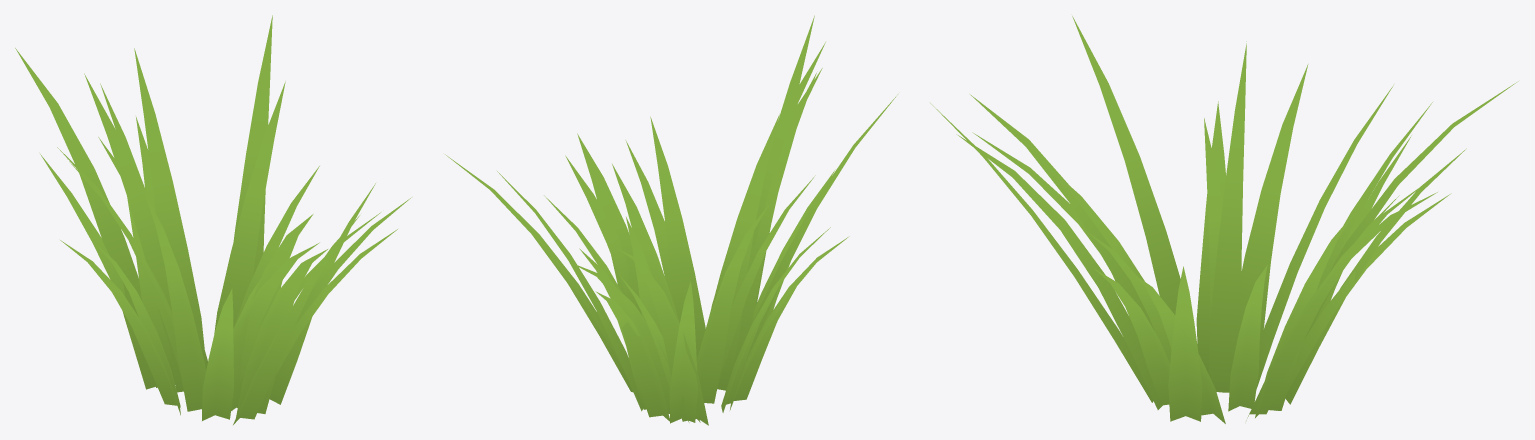
File: grass_tuft1.gltf
3 renders of one model, left to right at view 1: azimuth 30°, elevation 25°; view 2: azimuth 150°, elevation 25°; view 3: azimuth 270°, elevation 25°, orthographic. The views are drawn at different scales.
Parts seen in each view (by area): view 1: grass_tuft1_blade_LOD0; view 2: grass_tuft1_blade_LOD0; view 3: grass_tuft1_blade_LOD0.
Boxes of the visible parts, left/top/right/bottom form: grass_tuft1_blade_LOD0: left=15, top=15, right=411, bottom=424; grass_tuft1_blade_LOD0: left=445, top=15, right=897, bottom=425; grass_tuft1_blade_LOD0: left=930, top=16, right=1518, bottom=423.
Size of what is drawn, in the model's own units: 0.3876 by 0.3445 by 0.5837.
